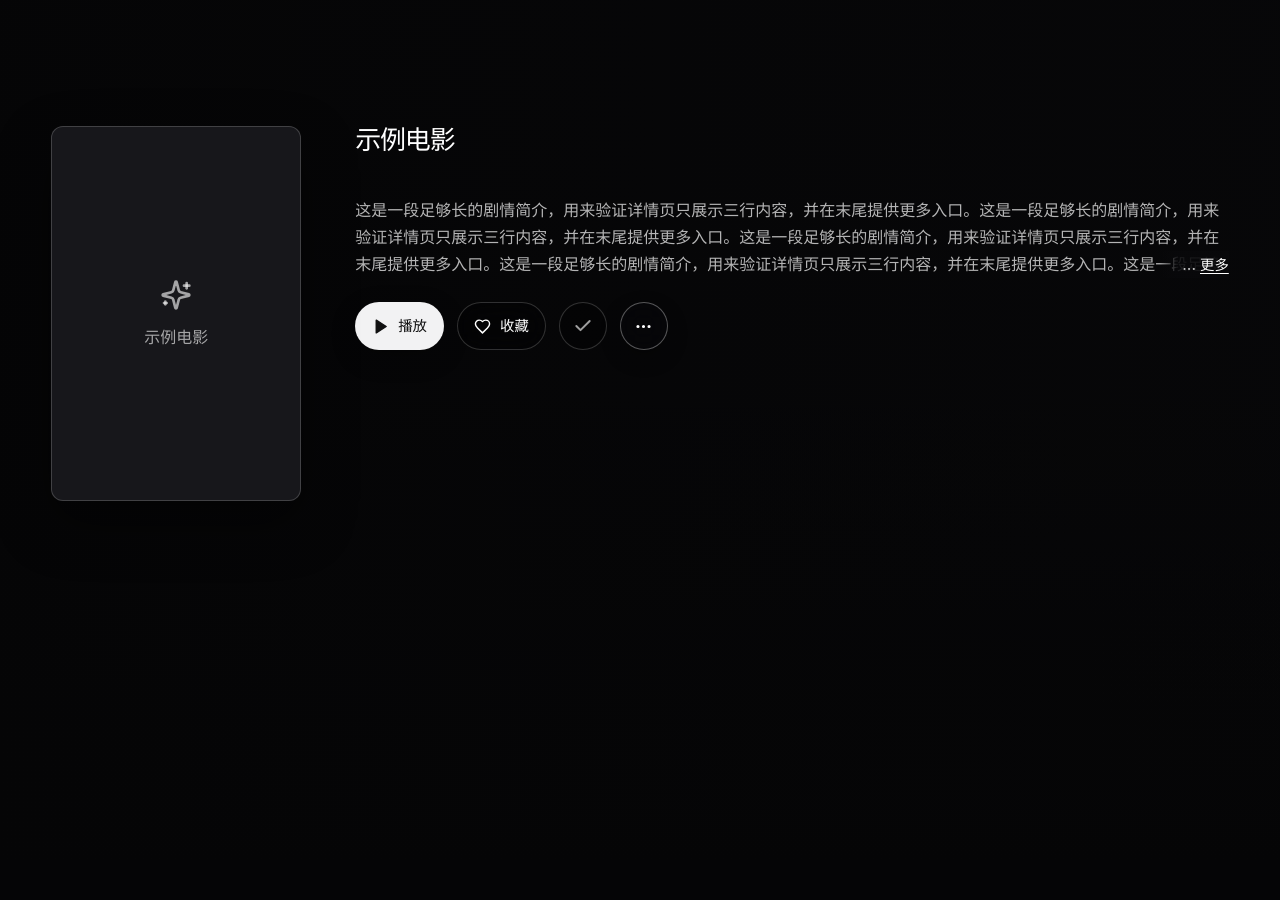
Scenario: MediaDetailPage series hierarchy › opens the complete overview from the three-line summary
This screenshot has width=1280, height=900.
Click the button with class "lux-detail-overview-more": (1214,265) [1200,253,1229,278]
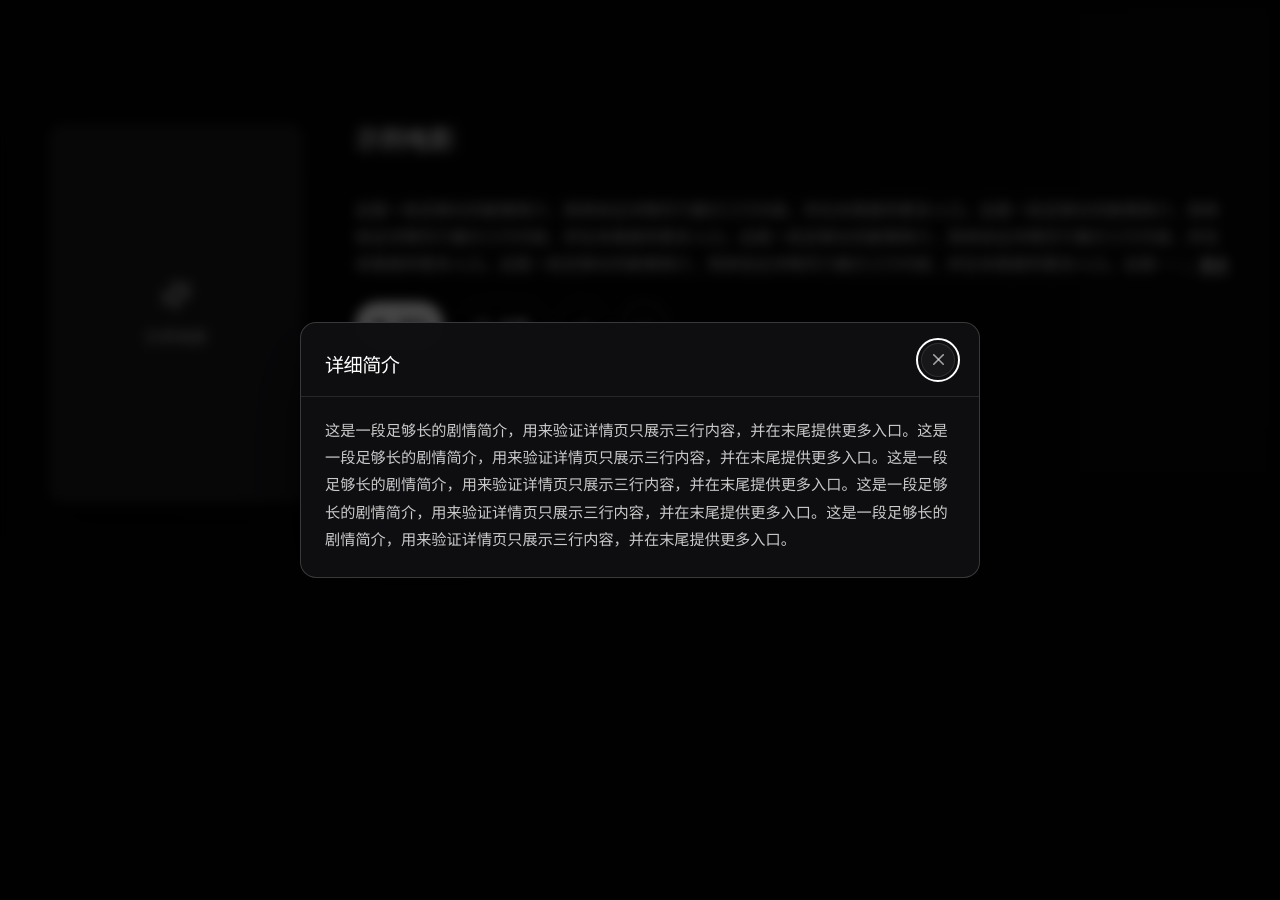
Expected: the button named "关闭详细信息" is shown
Click the button named "关闭详细信息": (938,360) [921,343,955,377]
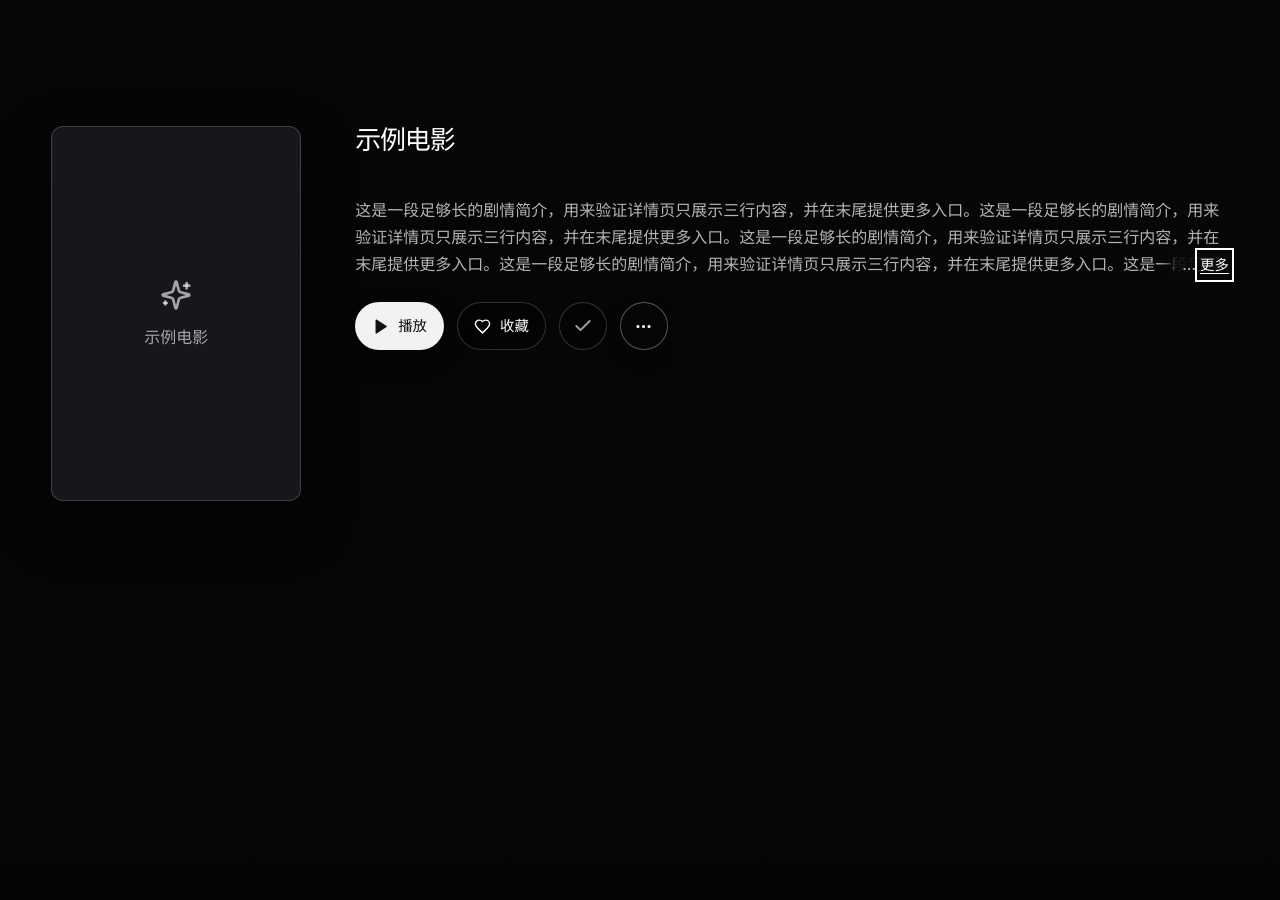
Expected: the dialog is gone
